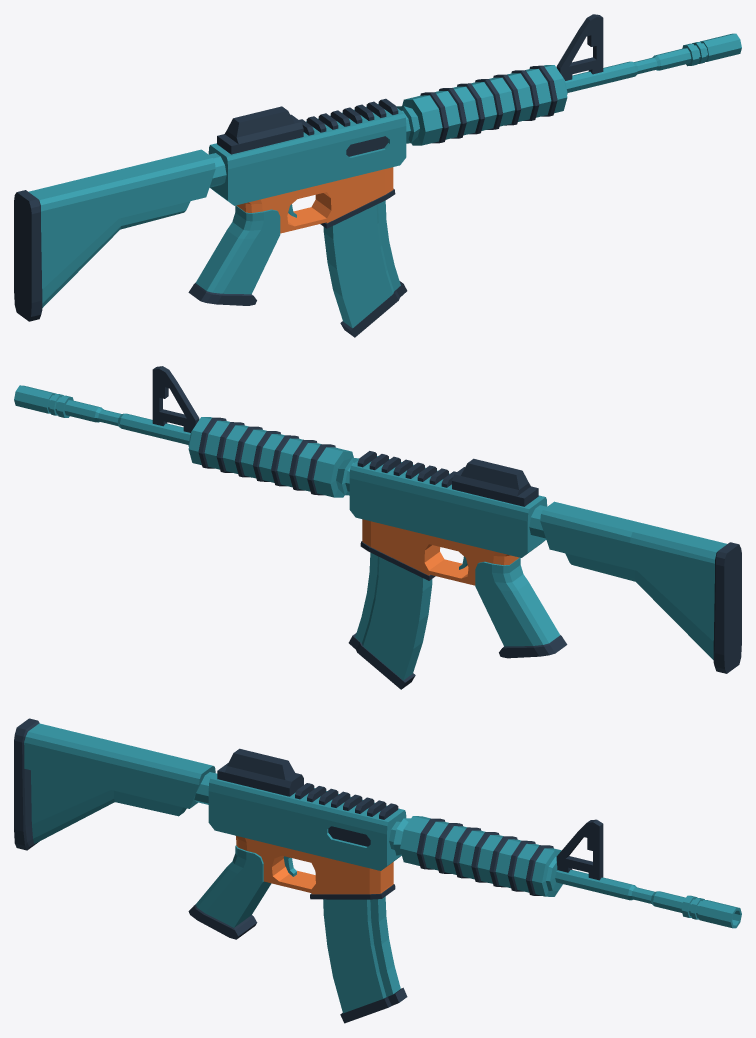
The model's file is rifle.glb.
The picture shows the model from 3 angles, top to bottom: view 1: azimuth 30°, elevation 25°; view 2: azimuth 150°, elevation 25°; view 3: azimuth 330°, elevation 25°; orthographic projection.
Parts seen in each view (by area): view 1: AssaultRifle2_1_Cube.156; view 2: AssaultRifle2_1_Cube.156; view 3: AssaultRifle2_1_Cube.156.
Boxes of the visible parts, <box> form: AssaultRifle2_1_Cube.156: <box>14,14,741,337</box>; AssaultRifle2_1_Cube.156: <box>14,366,741,689</box>; AssaultRifle2_1_Cube.156: <box>14,718,741,1023</box>.
Size of the model in its own units: 5.17 by 1.79 by 0.3464.
